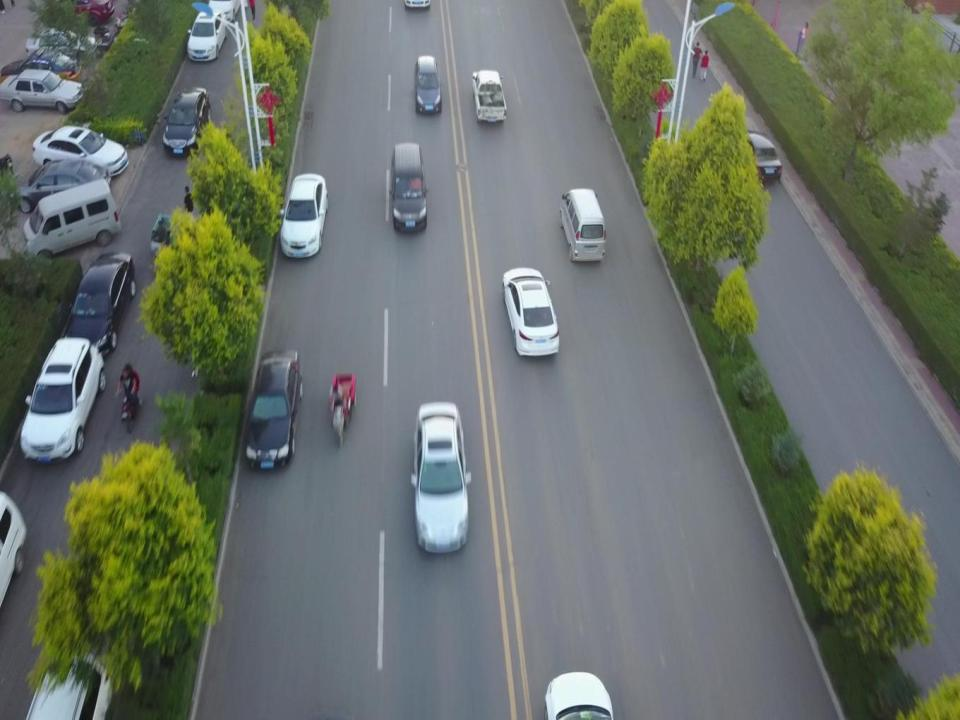car: (23, 335, 104, 464), (411, 402, 471, 552), (70, 248, 136, 355), (246, 348, 300, 470), (25, 655, 112, 720), (16, 157, 112, 213), (501, 266, 560, 356), (33, 126, 128, 178), (280, 172, 328, 260), (2, 69, 83, 110), (163, 87, 211, 155), (1, 51, 77, 84), (740, 128, 782, 184), (186, 11, 228, 62), (473, 72, 507, 124), (44, 1, 114, 23), (416, 55, 440, 113), (208, 1, 242, 20)
van: (23, 176, 122, 254), (562, 189, 606, 262), (391, 143, 427, 231)
